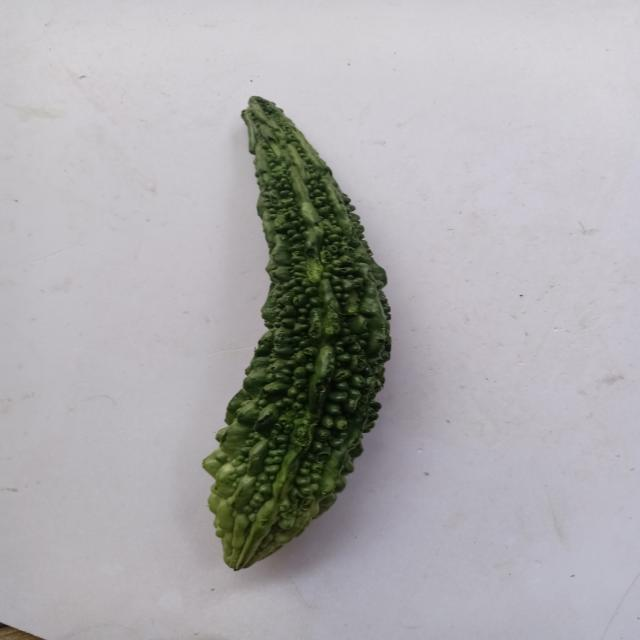Bitter Gourd: (208, 82, 407, 581)
